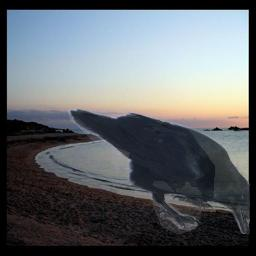Crow: (68, 109, 250, 234)
